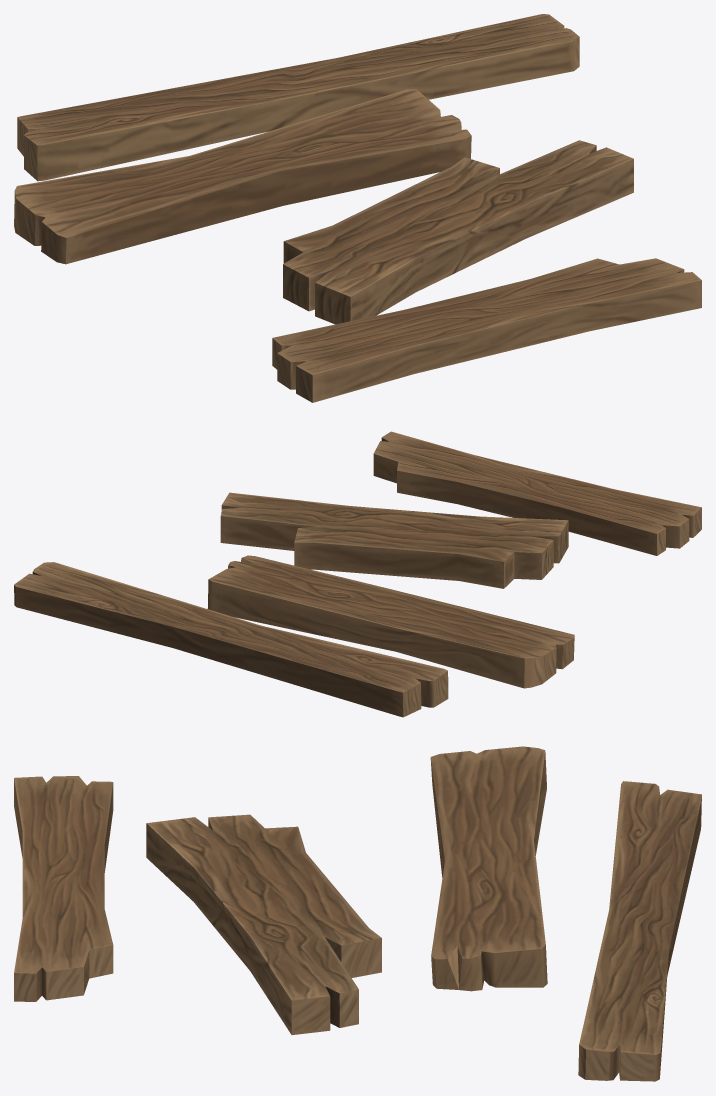
Rendered from Ground_Beams2.fbx.
3 views of the same model, one above another, from view 1: azimuth 30°, elevation 25°; view 2: azimuth 150°, elevation 25°; view 3: azimuth 270°, elevation 25° (orthographic). The views are drawn at different scales.
Visible parts, largest first — view 1: polySurface1609; view 2: polySurface1609; view 3: polySurface1609.
Part boxes in pixels (x1,y1,x2,y2): polySurface1609: (14,14,701,402); polySurface1609: (14,431,701,717); polySurface1609: (14,746,701,1081).
Size of the model in its own units: 128 by 7.82 by 124.
Materials: 1 (1 with a texture image).
